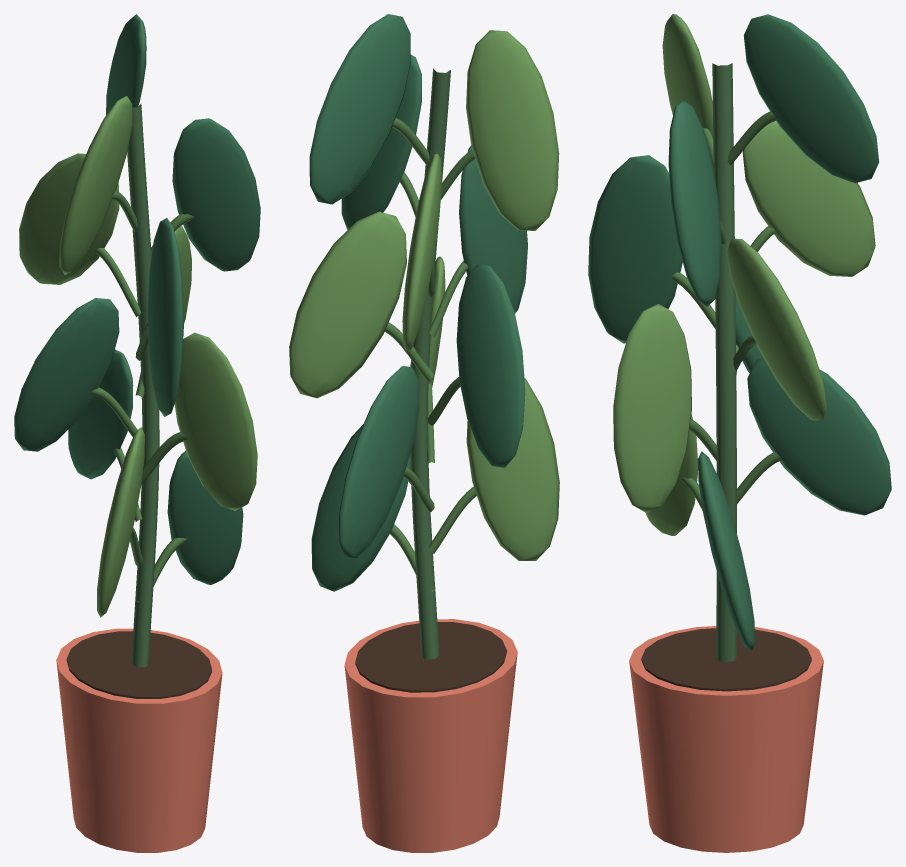
Rendered from office-plant-large.glb.
The picture shows the model from 3 angles, left to right: view 1: azimuth 30°, elevation 25°; view 2: azimuth 150°, elevation 25°; view 3: azimuth 270°, elevation 25°; orthographic projection. The views are drawn at different scales.
Parts seen in each view (by area): view 1: office_plant_large; view 2: office_plant_large; view 3: office_plant_large.
Part boxes in pixels (x1,y1,x2,y2): office_plant_large: (14, 14, 260, 852); office_plant_large: (289, 14, 559, 852); office_plant_large: (588, 14, 891, 852).
Size of the model in its own units: 1.81 by 6.32 by 2.12.
